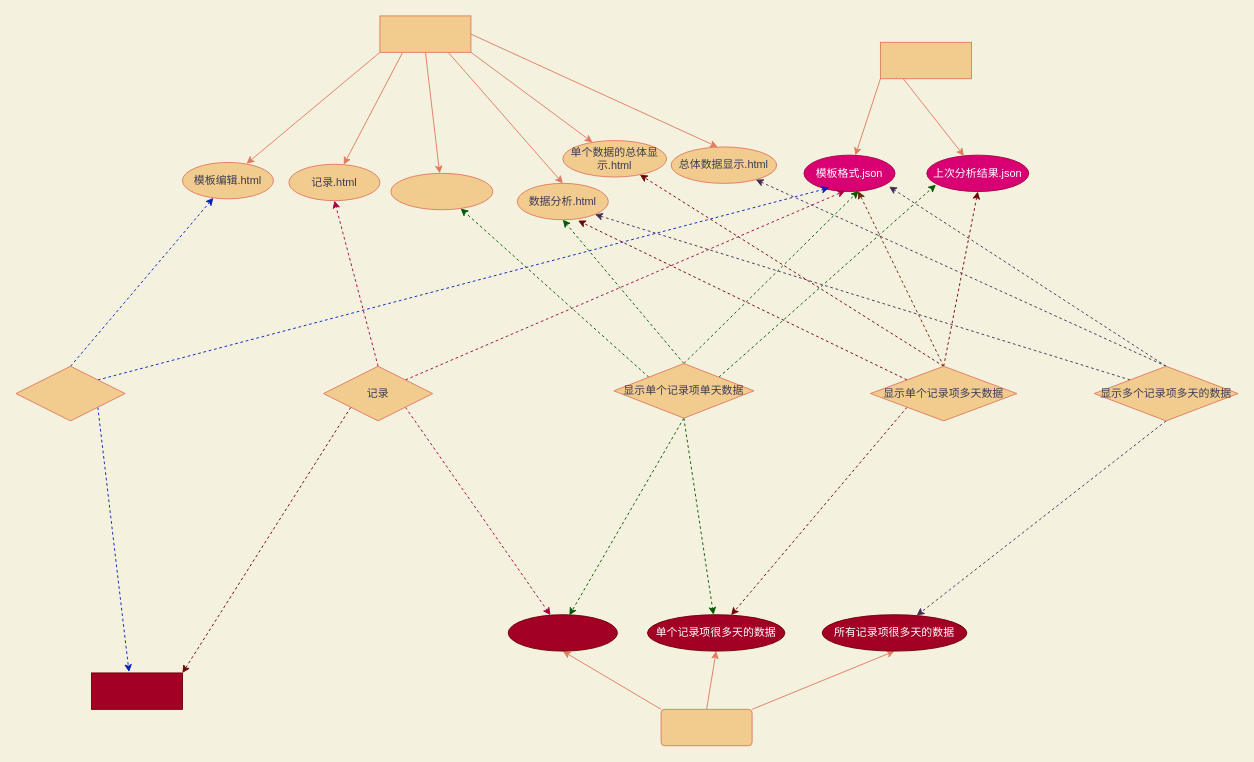
Some shapes in this 1254 by 762 pixel diagram are drawn without their labels. The centre of each missing label's shape, as x and y in pixels:
单个记录一天的数据: point 562,632
单天数据显示.html: point 441,191
安卓的系统数据: point 136,690
数据集: point 706,727
模板: point 425,33
编辑记录项: point 70,393
记录项: point 925,60
